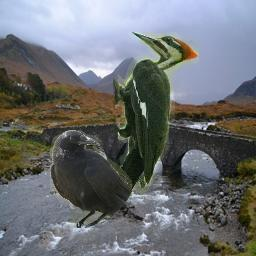Crow: (50, 130, 132, 228)
Woodpecker: (113, 32, 199, 201)
